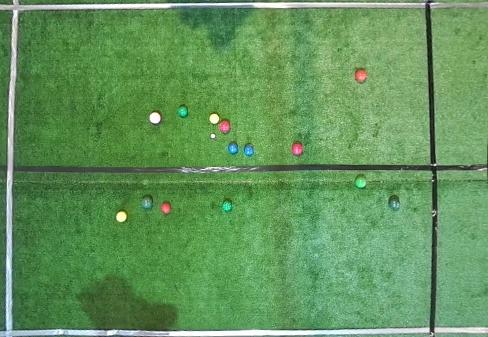blue: (228, 143, 238, 154), (244, 145, 254, 156)
green: (141, 197, 153, 209), (355, 175, 366, 188), (389, 199, 400, 211), (177, 106, 188, 117), (222, 200, 232, 211)
red: (291, 142, 303, 155), (355, 69, 367, 82), (149, 112, 162, 124), (219, 120, 230, 133), (160, 203, 171, 214)
vline: (424, 0, 487, 336), (0, 0, 21, 336)
white: (211, 134, 215, 139)
yellow: (116, 211, 127, 223), (209, 114, 219, 124)
